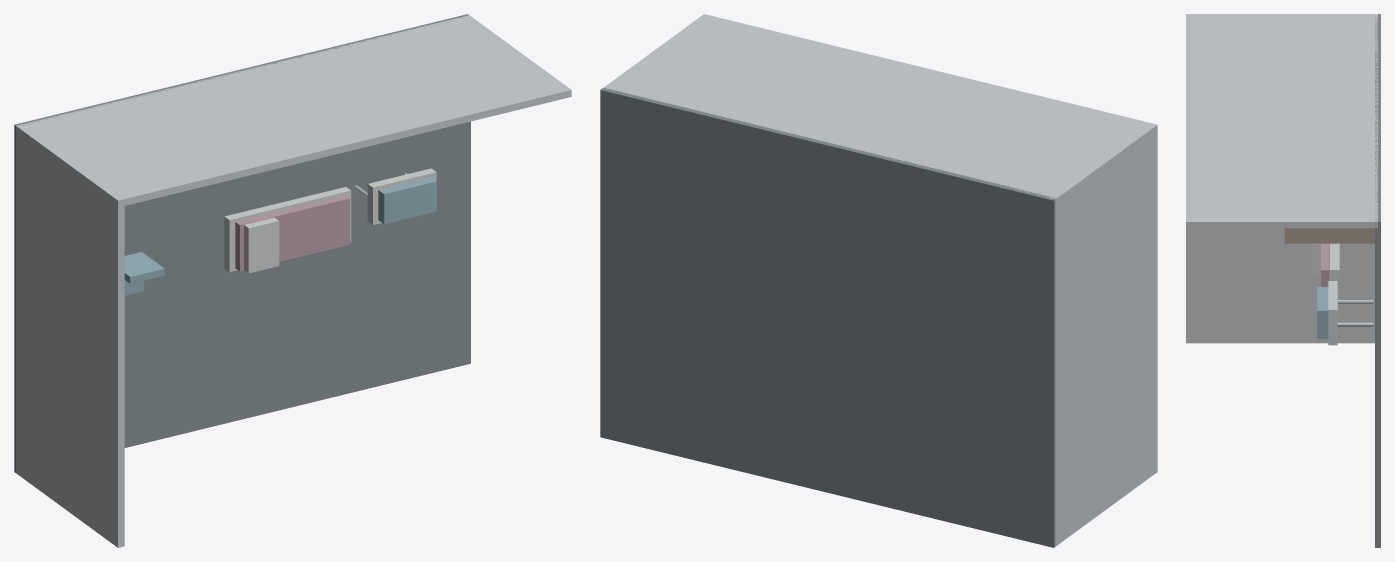
Rendered from maternity-room-low.glb.
The picture shows the model from 3 angles, left to right: view 1: azimuth 30°, elevation 25°; view 2: azimuth 150°, elevation 25°; view 3: azimuth 270°, elevation 25°; orthographic projection. The views are drawn at different scales.
Visible parts, largest first — view 1: floor, wall_back, wall_left, maternity_mattress, bassinet_pad, maternity_bed, pillow, newborn_bassinet, chair_back; view 2: floor, wall_back, wall_left; view 3: wall_back, wall_left, floor, maternity_cabinet, newborn_bassinet, bassinet_pad, maternity_bed, maternity_mattress, pillow.
Boxes of the visible parts, left/top/right/bottom form: floor: left=14, top=14, right=470, bottom=472; wall_back: left=22, top=15, right=571, bottom=207; wall_left: left=16, top=124, right=124, bottom=547; maternity_mattress: left=235, top=195, right=350, bottom=271; bassinet_pad: left=378, top=177, right=436, bottom=224; maternity_bed: left=224, top=187, right=351, bottom=272; pillow: left=244, top=217, right=279, bottom=273; newborn_bassinet: left=367, top=168, right=436, bottom=224; chair_back: left=124, top=252, right=164, bottom=283; floor: left=600, top=87, right=1056, bottom=547; wall_back: left=604, top=14, right=1155, bottom=205; wall_left: left=1049, top=123, right=1157, bottom=546; wall_back: left=1186, top=14, right=1377, bottom=228; wall_left: left=1186, top=14, right=1377, bottom=343; floor: left=1375, top=14, right=1380, bottom=547; maternity_cabinet: left=1284, top=228, right=1374, bottom=243; newborn_bassinet: left=1328, top=281, right=1337, bottom=345; bassinet_pad: left=1317, top=287, right=1328, bottom=339; maternity_bed: left=1330, top=243, right=1339, bottom=318; maternity_mattress: left=1321, top=243, right=1329, bottom=286; pillow: left=1312, top=243, right=1320, bottom=278.
Size of the model in its own units: 8.2 by 6 by 3.25.
